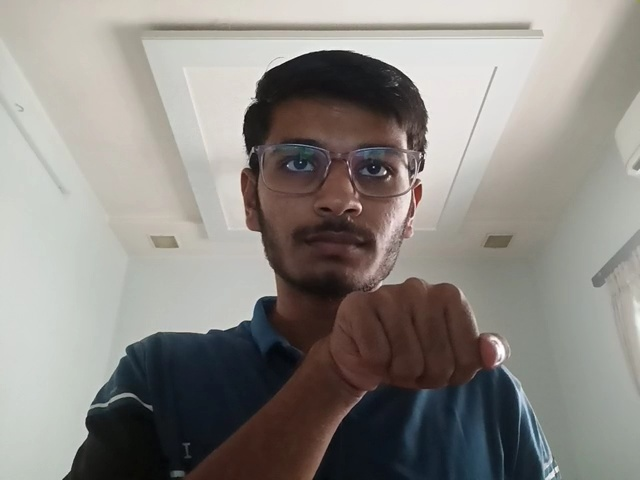Yes: (319, 272, 542, 399)
